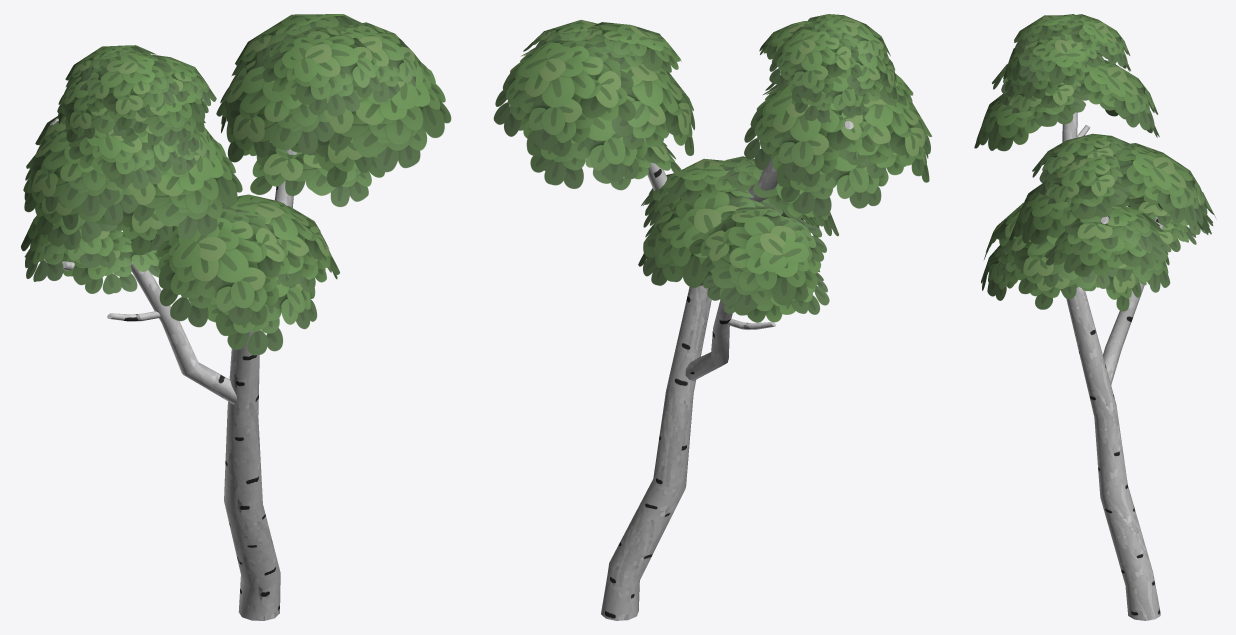
Rendered from Birch_5.glb.
3 renders of one model, left to right at view 1: azimuth 30°, elevation 25°; view 2: azimuth 150°, elevation 25°; view 3: azimuth 270°, elevation 25°, orthographic. The views are drawn at different scales.
Parts seen in each view (by area): view 1: Birch_5; view 2: Birch_5; view 3: Birch_5.
Part boxes in pixels (box(x1,y1,x2,y2)): Birch_5: box(21, 14, 451, 620); Birch_5: box(493, 14, 932, 620); Birch_5: box(974, 14, 1215, 620).
Bounding box in the file's own units: 6.35 × 9.08 × 3.93.
Materials: 2 (2 with a texture image).
